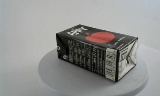appy: (51, 23, 130, 82)
